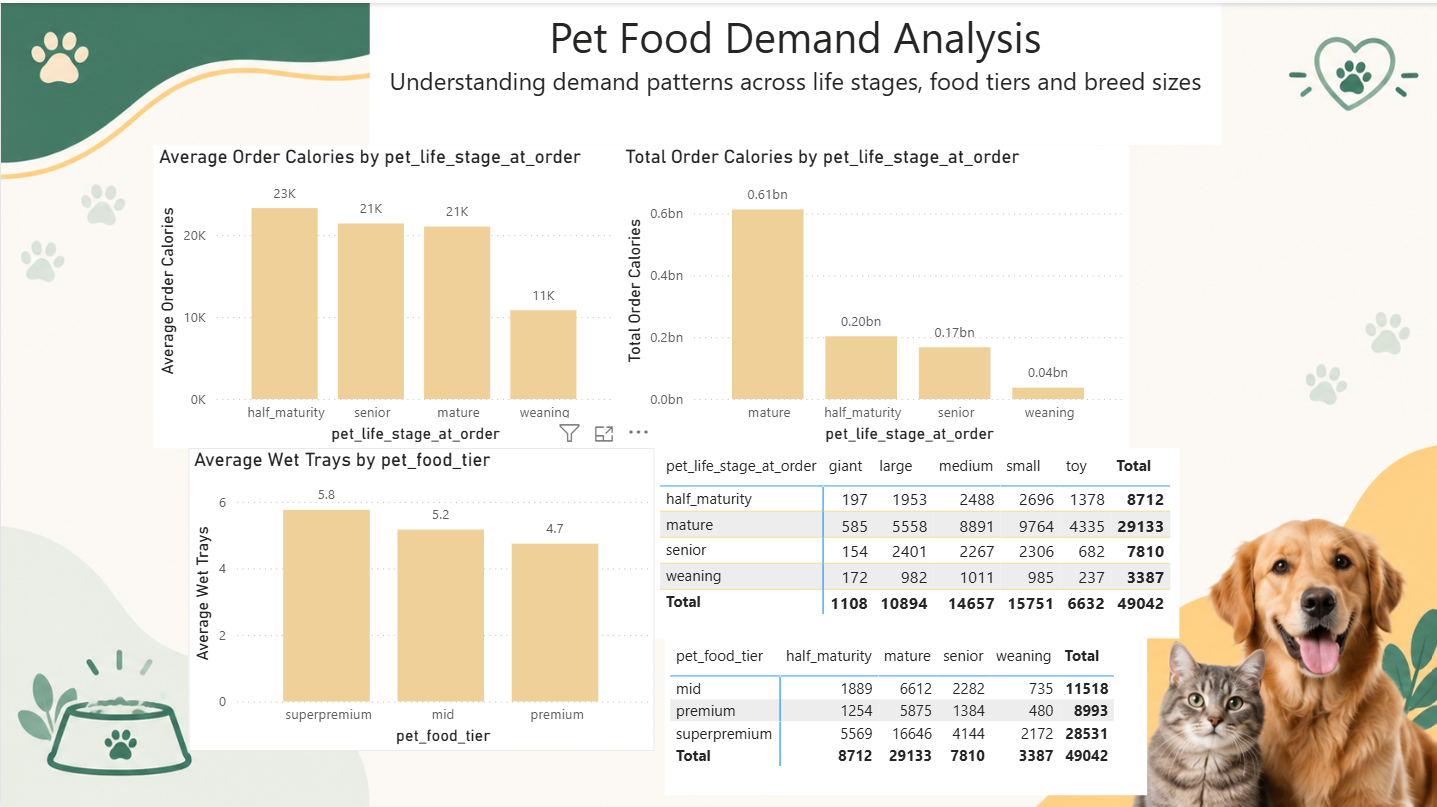

The dashboard page shown, as its layout file describes it:
{"tool":"powerbi","page":{"name":"Page 2","canvas":[1280,720],"ordinal":1},"visuals":[{"type":"textbox","box":[328.5,0,758.2,126.2],"z":0},{"type":"columnChart","fields":{"Category":["pet_food_customer_orders_cleaned.pet_life_stage_at_order"],"Y":["pet_food_customer_orders_cleaned.Average Order Calories"]},"box":[136,126.7,415.1,269.8],"z":1000},{"type":"columnChart","fields":{"Category":["pet_food_customer_orders_cleaned.pet_life_stage_at_order"],"Y":["pet_food_customer_orders_cleaned.Total Order Calories"]},"box":[551.2,126.7,454.7,269.8],"z":2000},{"type":"columnChart","fields":{"Category":["pet_food_customer_orders_cleaned.pet_food_tier"],"Y":["pet_food_customer_orders_cleaned.Average Wet Trays"]},"box":[167.4,396.5,415.1,269.8],"z":3000},{"type":"pivotTable","fields":{"Rows":["pet_food_customer_orders_cleaned.pet_life_stage_at_order"],"Columns":["pet_food_customer_orders_cleaned.pet_breed_size"],"Values":["pet_food_customer_orders_cleaned.Total Orders"]},"box":[582,395.9,467.1,169.9],"z":4000},{"type":"pivotTable","fields":{"Rows":["pet_food_customer_orders_cleaned.pet_food_tier"],"Columns":["pet_food_customer_orders_cleaned.pet_life_stage_at_order"],"Values":["pet_food_customer_orders_cleaned.Total Orders"]},"box":[590.8,565.8,429.7,139.9],"z":5000}]}

Visuals, with their boxes in screenshot pixels (x1, y1, x2, y2), scaled from the page's 1280x720 canvas onto the 1437x807 screenshot:
textbox: (369,0,1220,141)
columnChart - pet_food_customer_orders_cleaned.pet_life_stage_at_order x pet_food_customer_orders_cleaned.Average Order Calories: (153,142,619,444)
columnChart - pet_food_customer_orders_cleaned.pet_life_stage_at_order x pet_food_customer_orders_cleaned.Total Order Calories: (619,142,1129,444)
columnChart - pet_food_customer_orders_cleaned.pet_food_tier x pet_food_customer_orders_cleaned.Average Wet Trays: (188,444,654,747)
pivotTable - pet_food_customer_orders_cleaned.pet_life_stage_at_order x pet_food_customer_orders_cleaned.pet_breed_size: (653,444,1178,634)
pivotTable - pet_food_customer_orders_cleaned.pet_food_tier x pet_food_customer_orders_cleaned.pet_life_stage_at_order: (663,634,1146,791)
